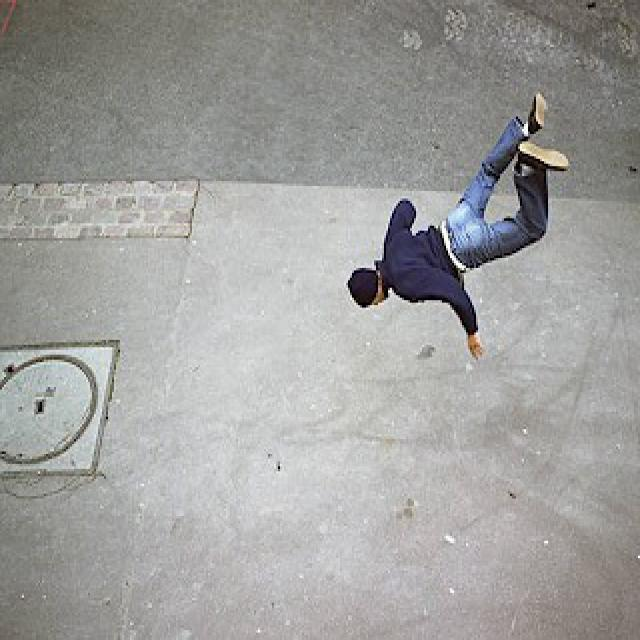fall: (347, 92, 569, 366)
